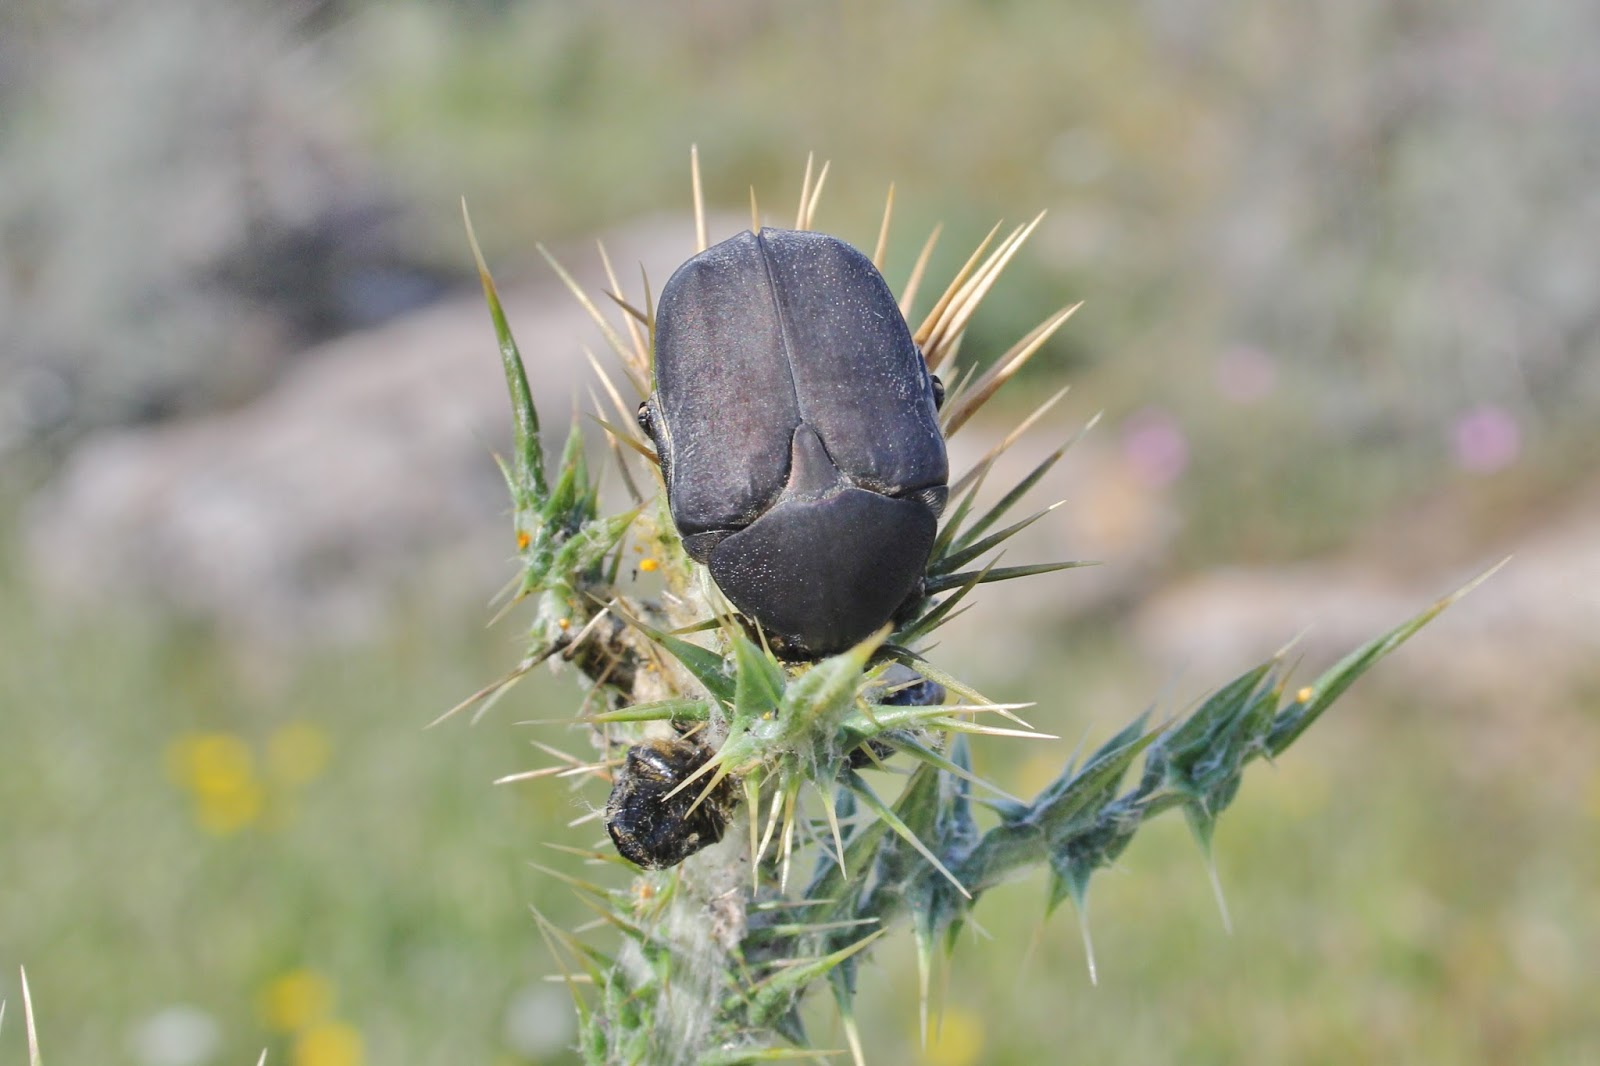Protaetia_afflicta: (636, 214, 956, 658)
